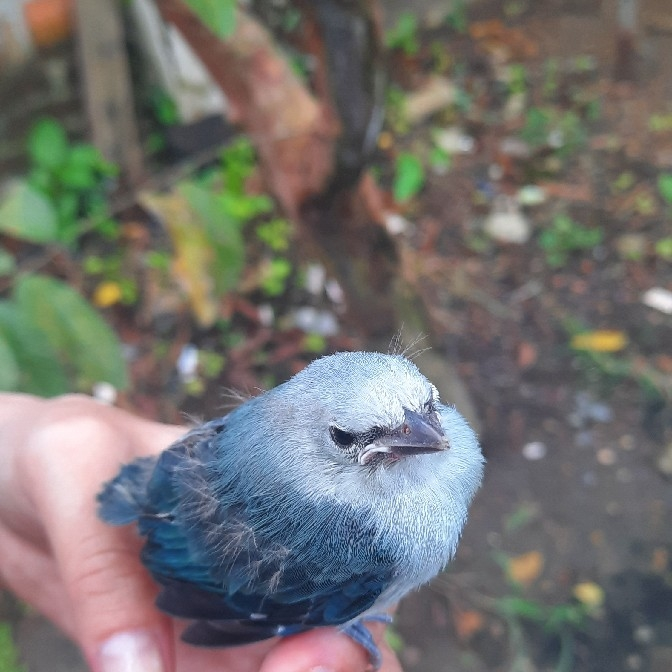Not_a_Chicken: (98, 338, 499, 639)
